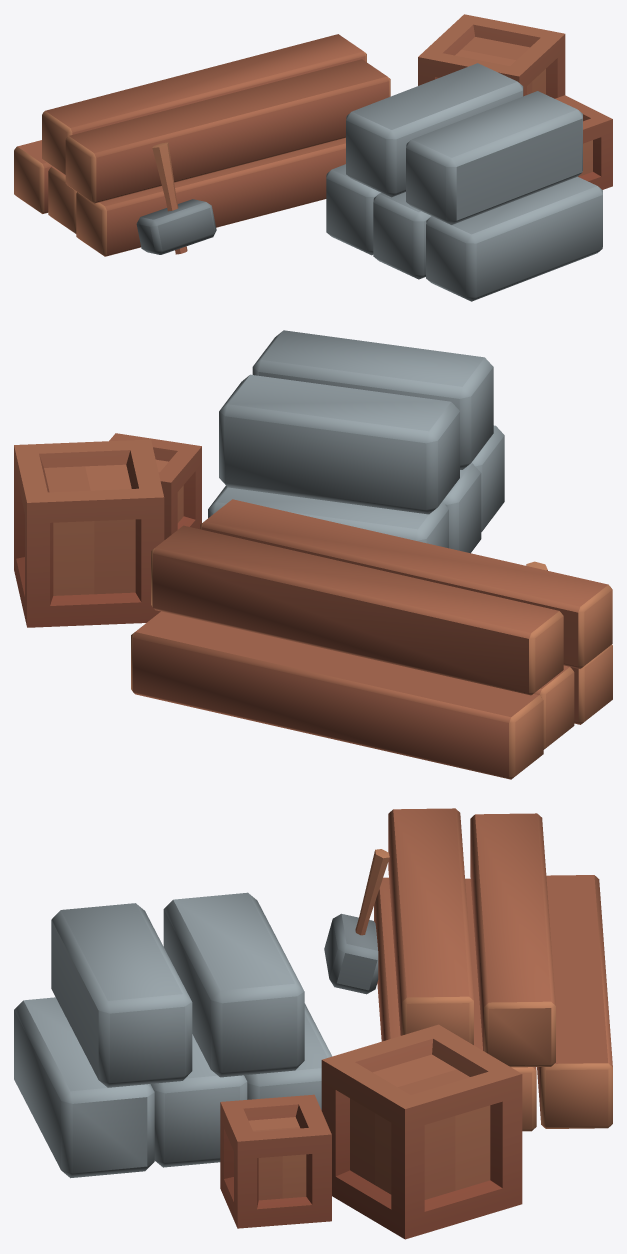
Rendered from building_stage_a.glb.
3 renders of one model, top to bottom at view 1: azimuth 30°, elevation 25°; view 2: azimuth 150°, elevation 25°; view 3: azimuth 270°, elevation 25°, orthographic. The views are drawn at different scales.
Visible parts, largest first — view 1: building_stage_A; view 2: building_stage_A; view 3: building_stage_A.
Boxes of the visible parts, x1,y1,x2,y2 form: building_stage_A: (14, 14, 612, 301); building_stage_A: (14, 330, 612, 779); building_stage_A: (14, 808, 612, 1239).
Size of the model in its own units: 1.05 by 0.2859 by 0.875.
1 material, 1 textured.
